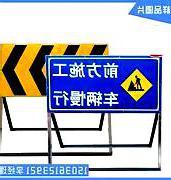sign: (46, 56, 163, 112)
